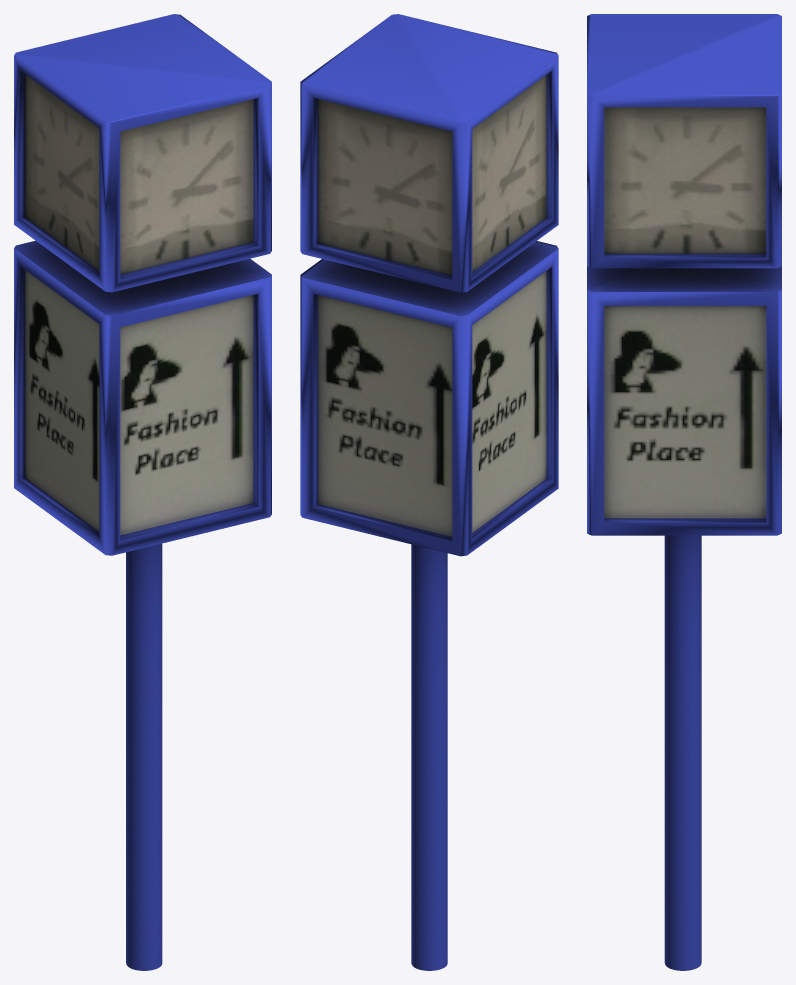
Rendered from werbetafel_uhr.fbx.
3 renders of one model, left to right at view 1: azimuth 30°, elevation 25°; view 2: azimuth 150°, elevation 25°; view 3: azimuth 270°, elevation 25°, orthographic.
Parts seen in each view (by area): view 1: Mesh; view 2: Mesh; view 3: Mesh.
Part boxes in pixels (x1,y1,x2,y2): Mesh: (14, 14, 271, 970); Mesh: (300, 14, 558, 970); Mesh: (587, 14, 781, 970).
Size of the model in its own units: 100 by 514 by 100.
